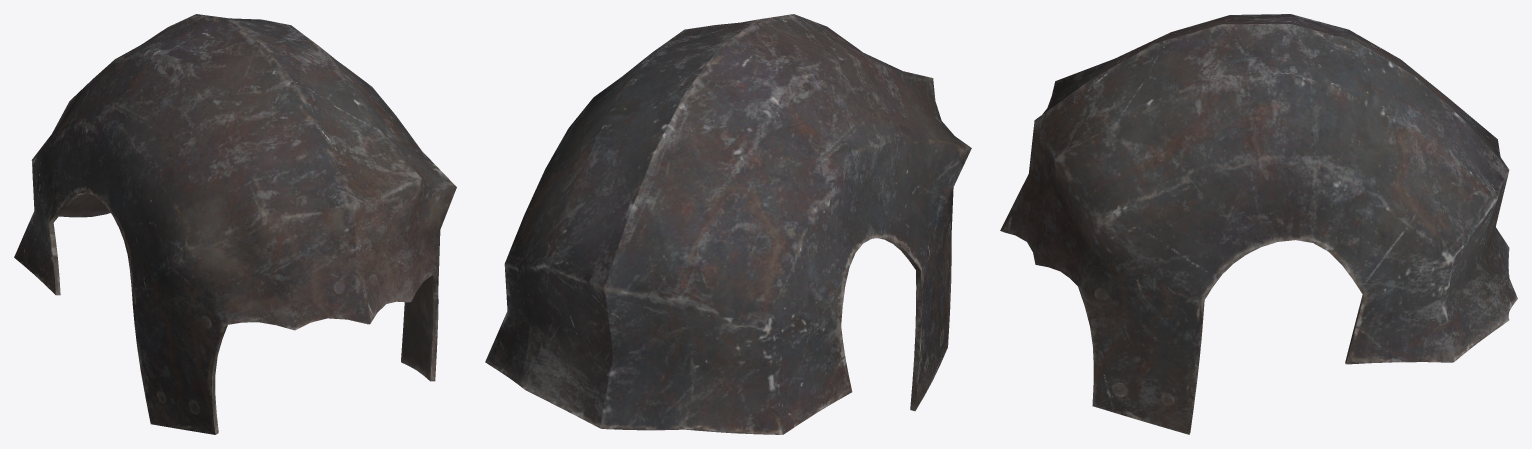
Rendered from sk_dg_uruk_helmet_light_c.fbx.
3 views of the same model, side by side, from view 1: azimuth 30°, elevation 25°; view 2: azimuth 150°, elevation 25°; view 3: azimuth 270°, elevation 25° (orthographic). The views are drawn at different scales.
Parts seen in each view (by area): view 1: sk_dg_uruk_helmet_light_c; view 2: sk_dg_uruk_helmet_light_c; view 3: sk_dg_uruk_helmet_light_c.
Boxes of the visible parts, box(x1,y1,x2,y2) form: sk_dg_uruk_helmet_light_c: box(14, 14, 456, 434); sk_dg_uruk_helmet_light_c: box(485, 14, 971, 434); sk_dg_uruk_helmet_light_c: box(1000, 14, 1517, 434).
Size of the model in its own units: 0.201 by 0.2998 by 0.2217.
1 material, 1 textured.
